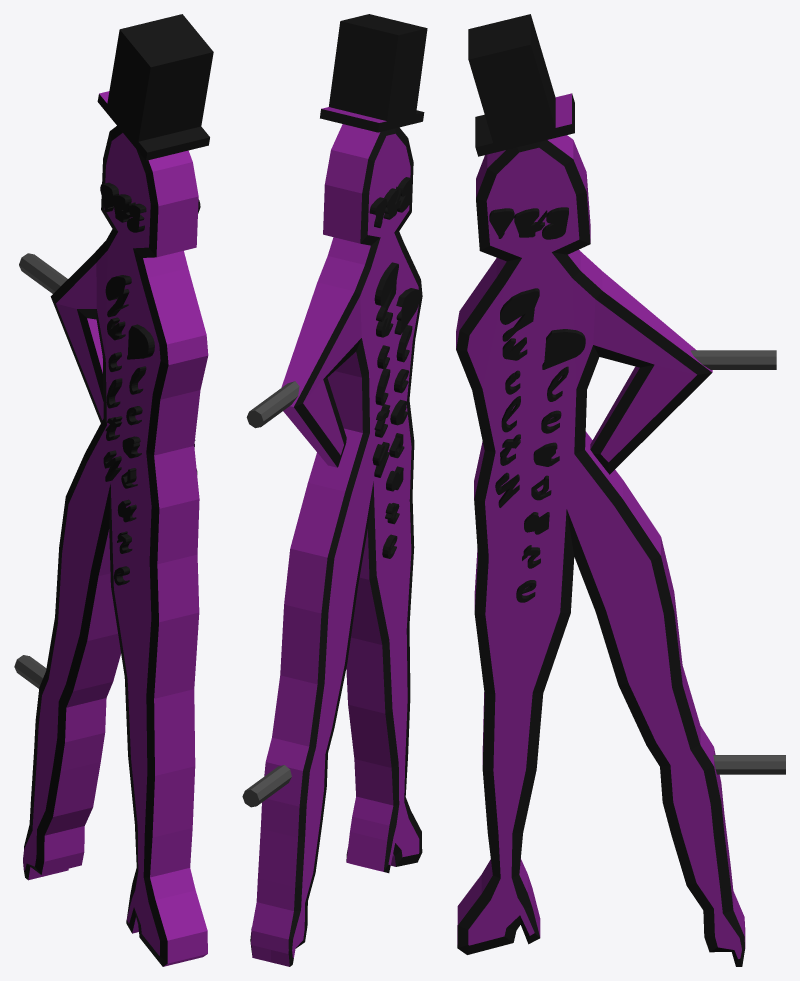
File: Sign6.fbx
3 renders of one model, left to right at view 1: azimuth 30°, elevation 25°; view 2: azimuth 150°, elevation 25°; view 3: azimuth 270°, elevation 25°, orthographic. The views are drawn at different scales.
Parts seen in each view (by area): view 1: Sign6; view 2: Sign6; view 3: Sign6.
Boxes of the visible parts, left/top/right/bottom form: Sign6: left=14, top=14, right=213, bottom=966; Sign6: left=242, top=14, right=427, bottom=966; Sign6: left=456, top=14, right=785, bottom=966.
Bounding box in the file's own units: 10.46 × 148 × 47.58.
